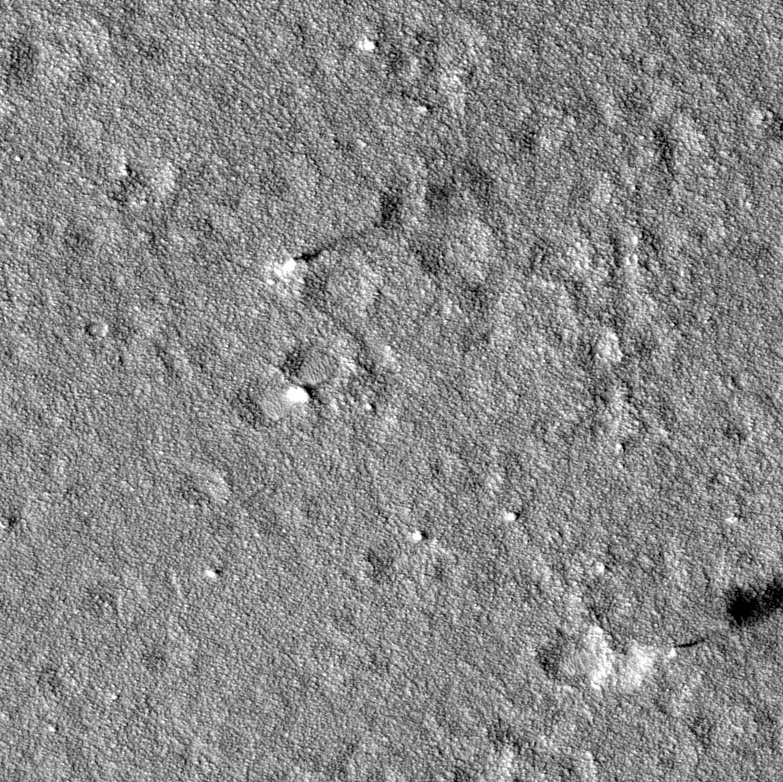dust_devil: (587, 569, 783, 694), (268, 188, 404, 285)
